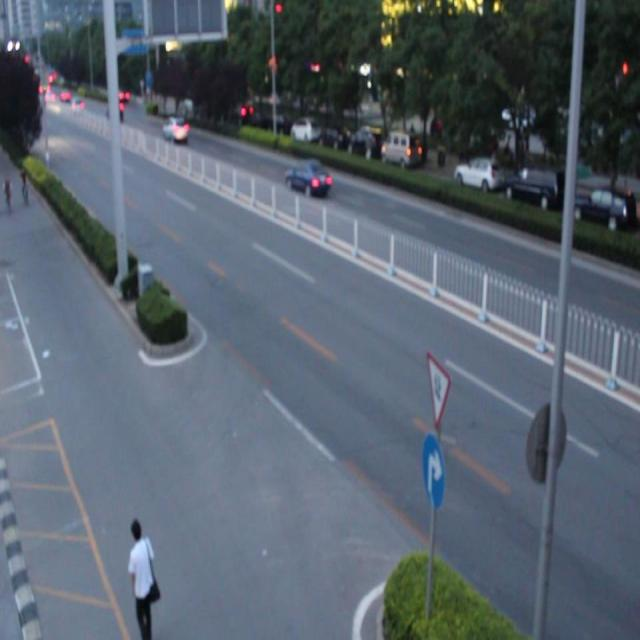car: (284, 158, 332, 201)
